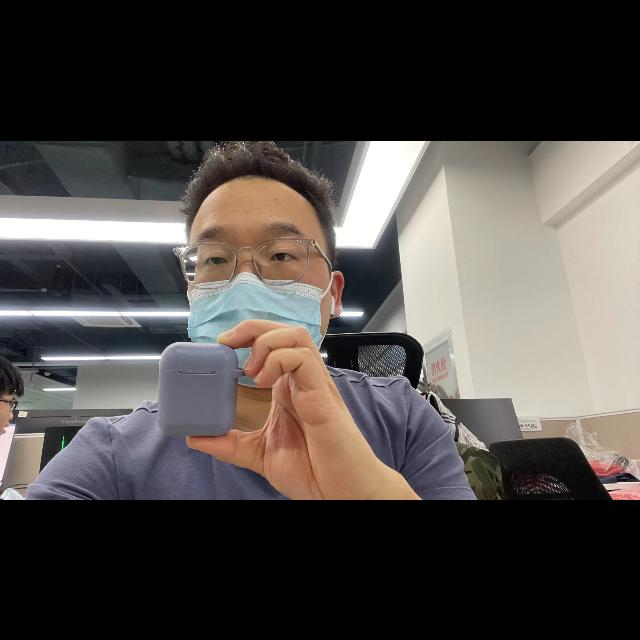airpods: (157, 343, 250, 436)
